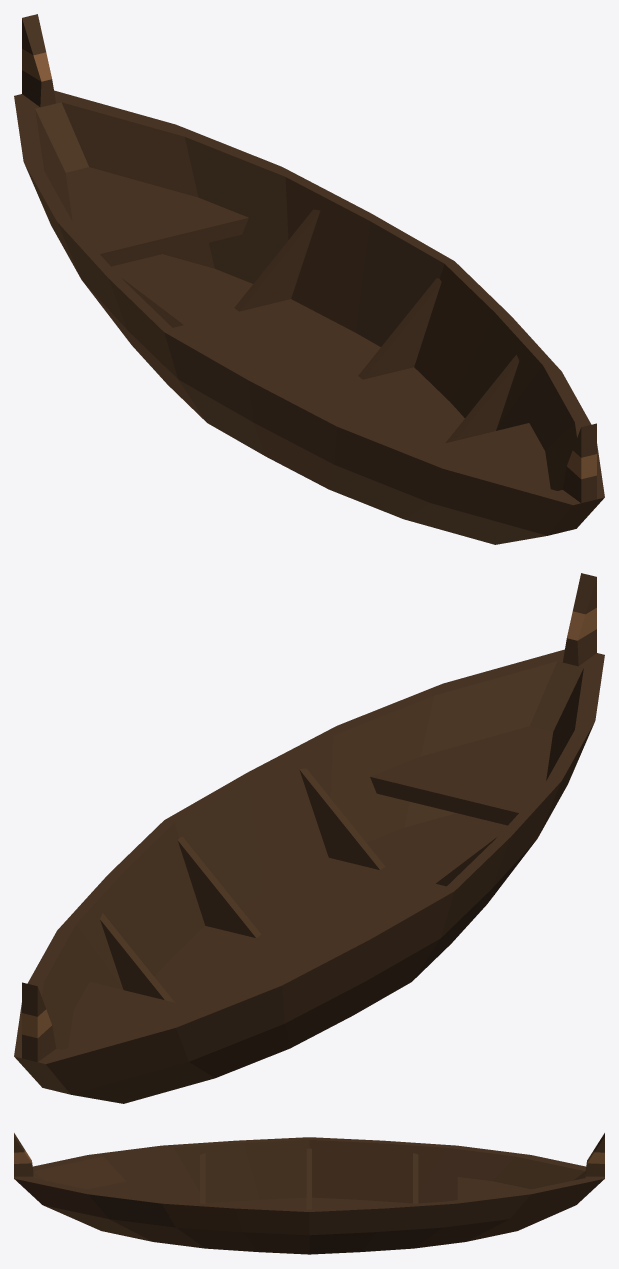
File: Boat_3_Dark_Brown.fbx
3 renders of one model, top to bottom at view 1: azimuth 30°, elevation 25°; view 2: azimuth 150°, elevation 25°; view 3: azimuth 270°, elevation 25°, orthographic. The views are drawn at different scales.
Parts seen in each view (by area): view 1: Boat_3_Dark_Brown; view 2: Boat_3_Dark_Brown; view 3: Boat_3_Dark_Brown.
Part boxes in pixels (x1,y1,x2,y2): Boat_3_Dark_Brown: (14,14,604,544); Boat_3_Dark_Brown: (14,573,604,1103); Boat_3_Dark_Brown: (14,1133,604,1254).
Size of the model in its own units: 300 by 175 by 1000.
